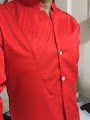shirts: (4, 3, 82, 120)
